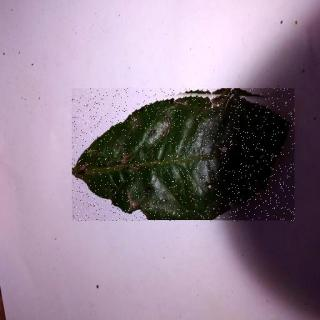Bird Eye Spot: (74, 90, 297, 223)
